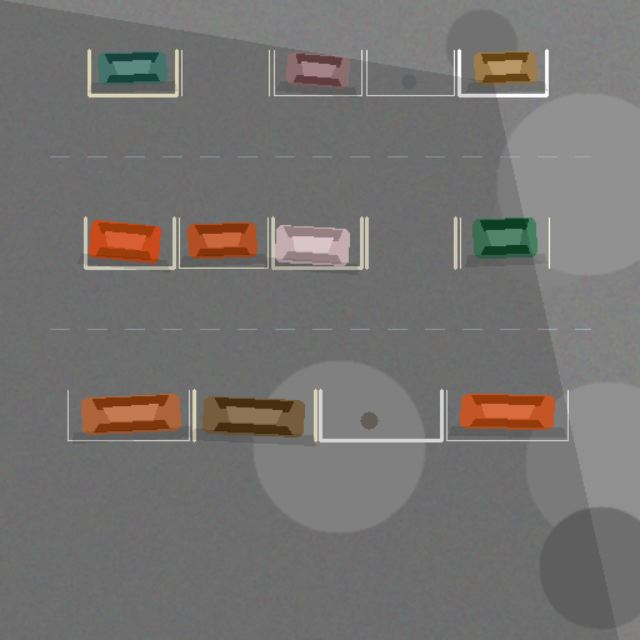space-empty: (320, 390, 441, 440), (366, 217, 455, 267), (181, 50, 269, 95), (366, 50, 454, 95)
space-occupied: (67, 390, 189, 440), (194, 390, 315, 440), (446, 390, 567, 440), (85, 217, 174, 267), (179, 217, 268, 267), (272, 217, 361, 267), (460, 217, 549, 267), (89, 50, 176, 95), (274, 50, 361, 95), (459, 50, 546, 95)
